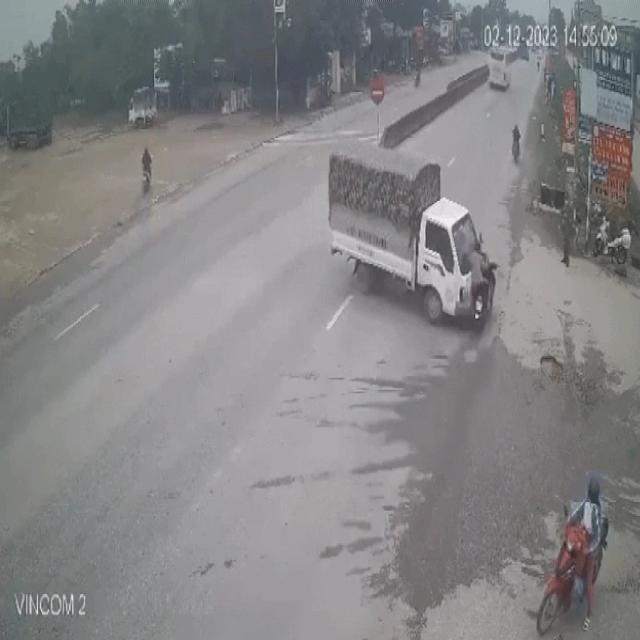multiple_accident: (324, 130, 502, 337)
